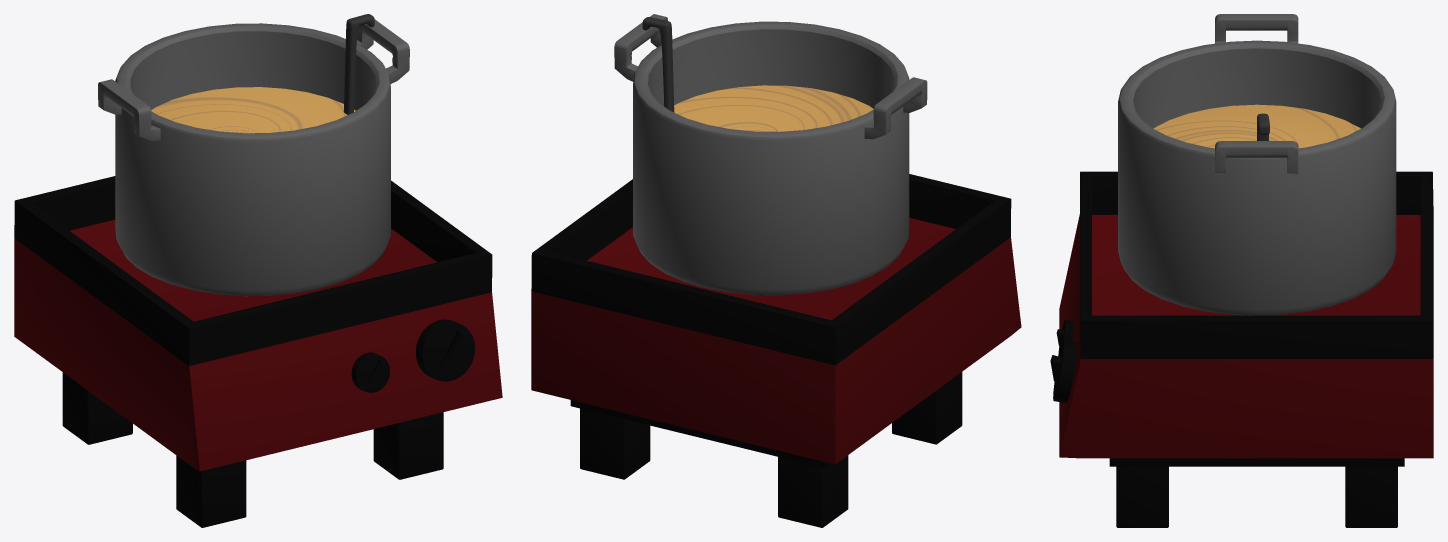
The model's file is stove_pot_isi.fbx.
3 renders of one model, left to right at view 1: azimuth 30°, elevation 25°; view 2: azimuth 150°, elevation 25°; view 3: azimuth 270°, elevation 25°, orthographic.
Visible parts, largest first — view 1: kompor.004, panci.001, kompor_kaki.002, kuah.001, Cube.011; view 2: kompor.004, panci.001, kompor_kaki.002, kuah.001, Cube.011; view 3: kompor.004, panci.001, kompor_kaki.002, kuah.001.
Boxes of the visible parts, x1,y1,x2,y2 form: kompor.004: (14,176,502,471); panci.001: (98,19,409,296); kompor_kaki.002: (62,372,443,527); kuah.001: (151,87,355,133); Cube.011: (343,14,374,114); kompor.004: (531,174,1021,467); panci.001: (614,14,927,295); kompor_kaki.002: (580,372,962,527); kuah.001: (674,85,873,131); Cube.011: (642,17,674,112); kompor.004: (1050,171,1433,466); panci.001: (1118,14,1396,315); kompor_kaki.002: (1116,466,1397,527); kuah.001: (1153,104,1360,148).
Size of the model in its own units: 100 by 127 by 109.
Materials: 5 (1 with a texture image).
